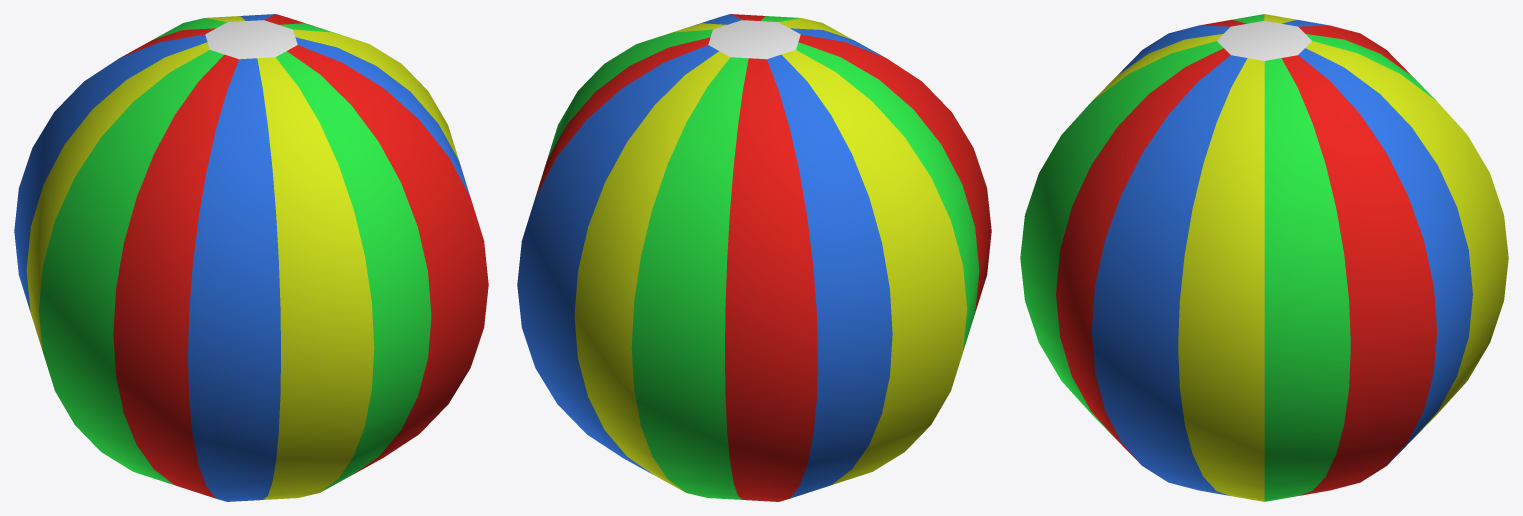
The model's file is BeachBall.glb.
3 views of the same model, side by side, from view 1: azimuth 30°, elevation 25°; view 2: azimuth 150°, elevation 25°; view 3: azimuth 270°, elevation 25° (orthographic).
Visible parts, largest first — view 1: Sphere; view 2: Sphere; view 3: Sphere.
Boxes of the visible parts, <box> form: Sphere: <box>14,14,488,501</box>; Sphere: <box>517,14,991,501</box>; Sphere: <box>1020,14,1508,501</box>.
Size of the model in its own units: 2 by 1.96 by 2.
